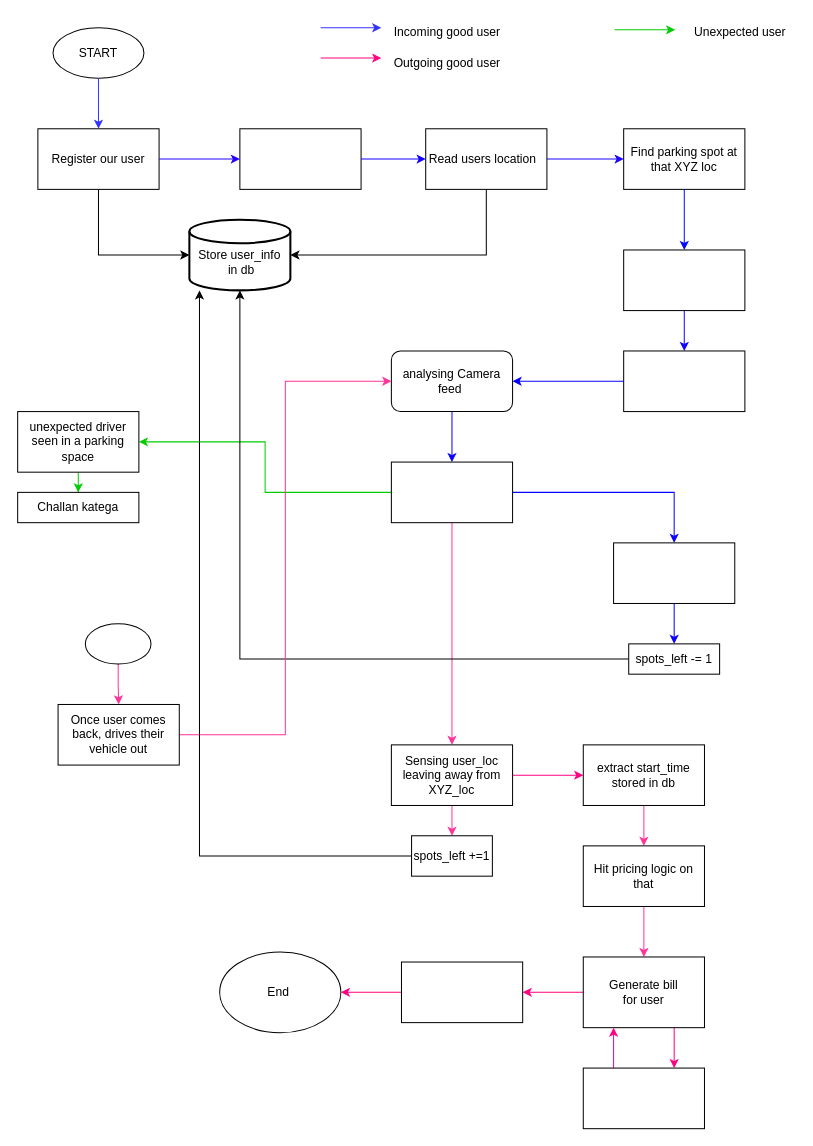
This 813x1146 diagram has some shape labels left out. The box of each missing label's shape, as (x1, y1, x2, y2) in pixels:
Again start: (84, 623, 151, 664)
Check for user on that loc: (623, 350, 745, 412)
Once spot found, hit google api, send user the route from user_loc -> XYZ_loc: (623, 249, 745, 311)
Once user is seen parked at that spot, note the time: (613, 542, 735, 603)
payment done: (400, 961, 523, 1023)
Redirect to payment gateway: (582, 1067, 704, 1129)
User requests to find parking at XYZ loc: (239, 128, 361, 189)
yolo model: (390, 461, 513, 523)
